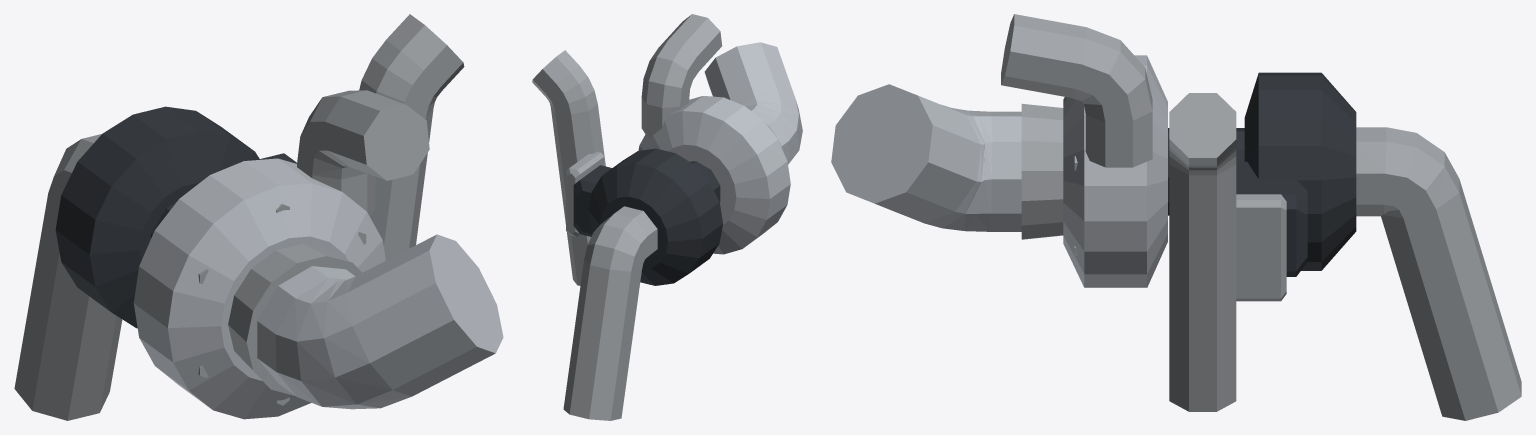
The model's file is hana_roadster.glb.
3 renders of one model, left to right at view 1: azimuth 30°, elevation 25°; view 2: azimuth 150°, elevation 25°; view 3: azimuth 270°, elevation 25°, orthographic. The views are drawn at different scales.
Parts seen in each view (by area): view 1: model; view 2: model; view 3: model.
Part boxes in pixels (left/top/right/bottom): model: left=14, top=14, right=503, bottom=420; model: left=532, top=14, right=802, bottom=420; model: left=831, top=14, right=1521, bottom=420.
Bounding box in the file's own units: 0.2694 × 0.3354 × 0.4949.
2 materials, 1 textured.
